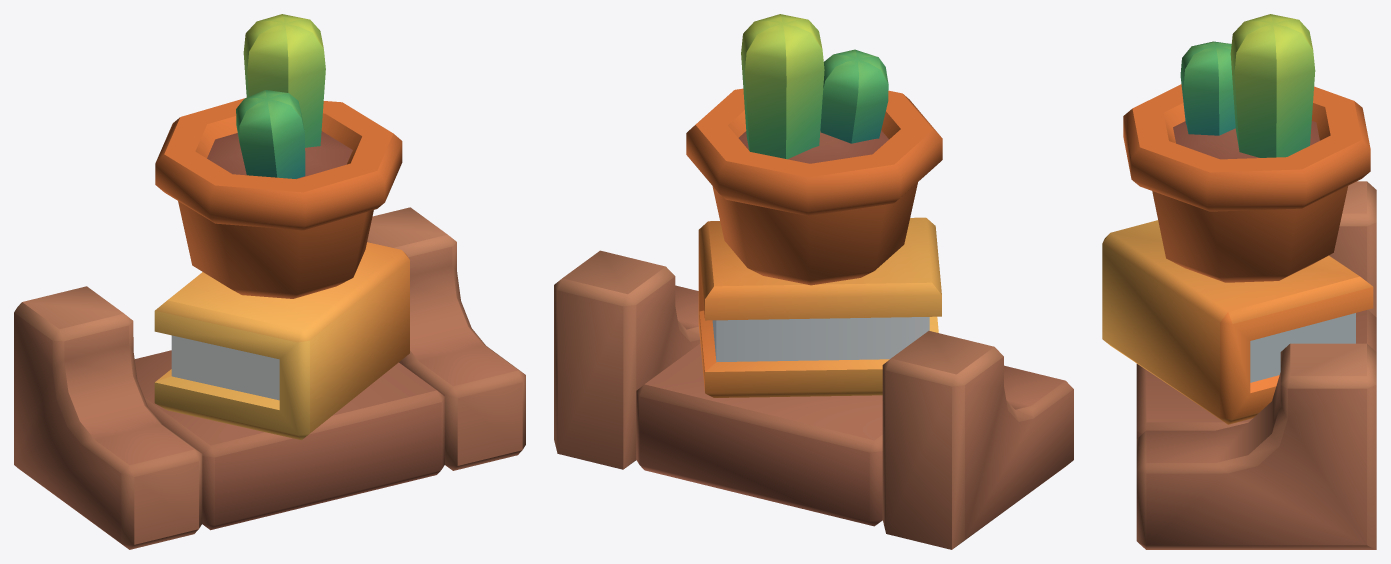
File: furn_bookshelf_small.glb
The picture shows the model from 3 angles, left to right: view 1: azimuth 30°, elevation 25°; view 2: azimuth 150°, elevation 25°; view 3: azimuth 270°, elevation 25°; orthographic projection. The views are drawn at different scales.
Visible parts, largest first — view 1: shelf_B_small_decorated; view 2: shelf_B_small_decorated; view 3: shelf_B_small_decorated.
Boxes of the visible parts, x1,y1,x2,y2 form: shelf_B_small_decorated: [14, 14, 525, 549]; shelf_B_small_decorated: [554, 14, 1073, 549]; shelf_B_small_decorated: [1102, 14, 1376, 549].
Bounding box in the file's own units: 1 × 1.01 × 0.5713.
Materials: 1 (1 with a texture image).
